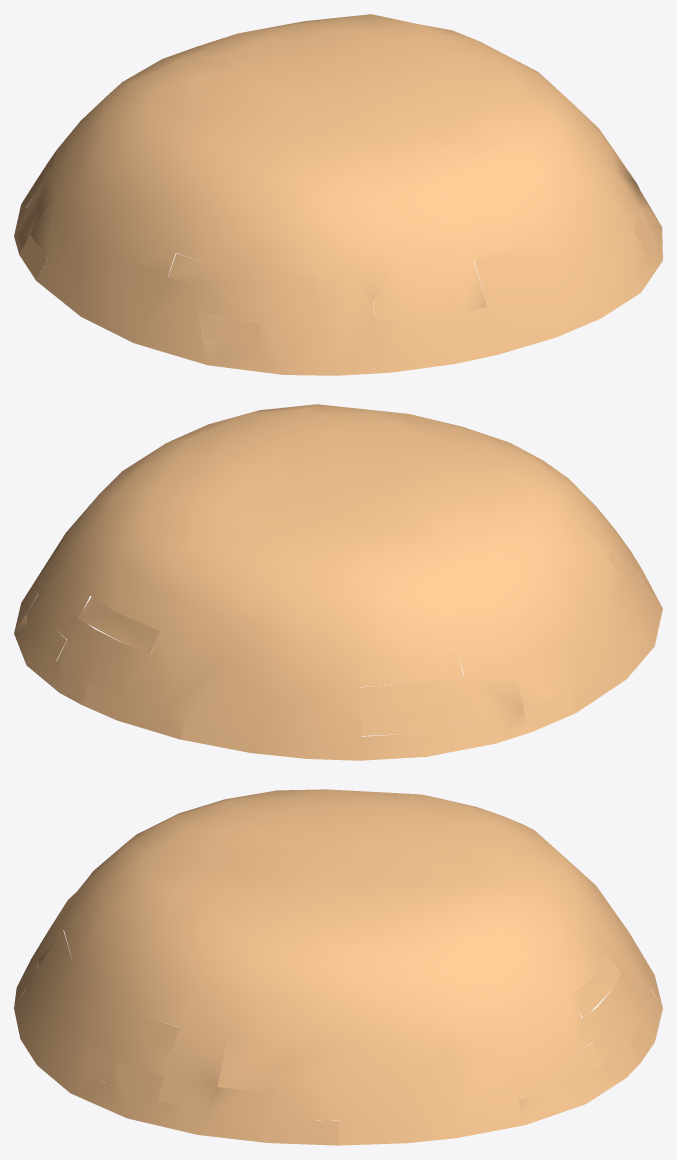
The model's file is beach_collider.glb.
3 renders of one model, top to bottom at view 1: azimuth 30°, elevation 25°; view 2: azimuth 150°, elevation 25°; view 3: azimuth 270°, elevation 25°, orthographic. The views are drawn at different scales.
Parts seen in each view (by area): view 1: Plane.005_Plane.007_Material.002_Material.002_0; view 2: Plane.005_Plane.007_Material.002_Material.002_0; view 3: Plane.005_Plane.007_Material.002_Material.002_0.
Part boxes in pixels (<box>): Plane.005_Plane.007_Material.002_Material.002_0: <box>14,14,662,375</box>; Plane.005_Plane.007_Material.002_Material.002_0: <box>14,404,662,760</box>; Plane.005_Plane.007_Material.002_Material.002_0: <box>14,789,662,1145</box>.
Bounding box in the file's own units: 36.54 × 9.95 × 36.64.
